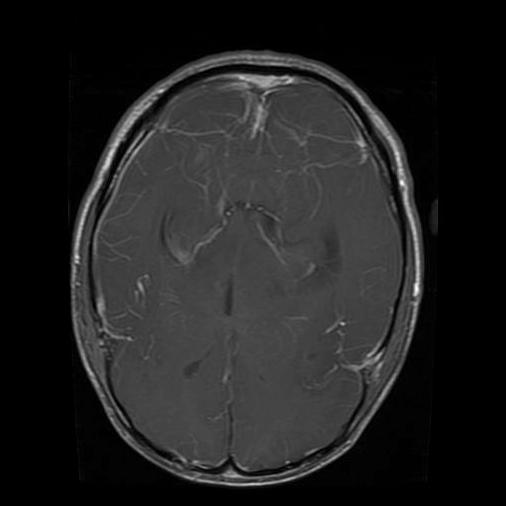Tumour-Glioma: (276, 205, 340, 295)
